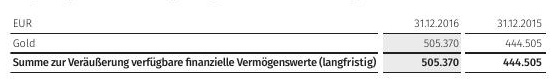table: (0, 0, 556, 81)
